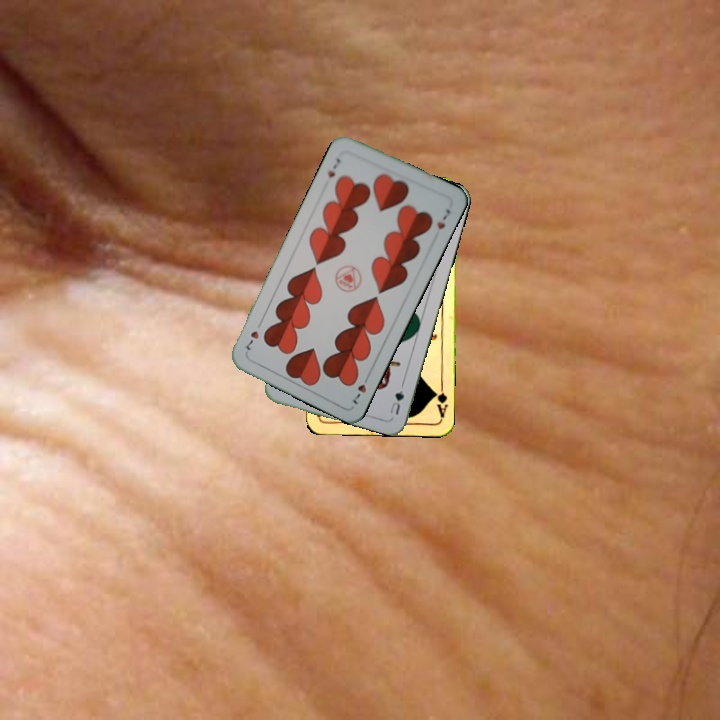GA: (430, 380, 450, 421)
GU: (386, 385, 407, 417)
H7: (348, 370, 372, 407), (323, 154, 343, 180)
